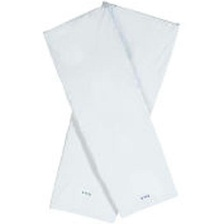foam_box: (38, 0, 186, 224)
